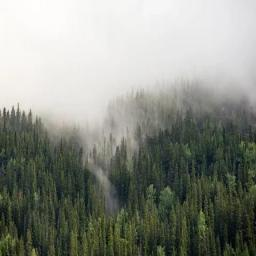Low smoke: (0, 69, 252, 145)
